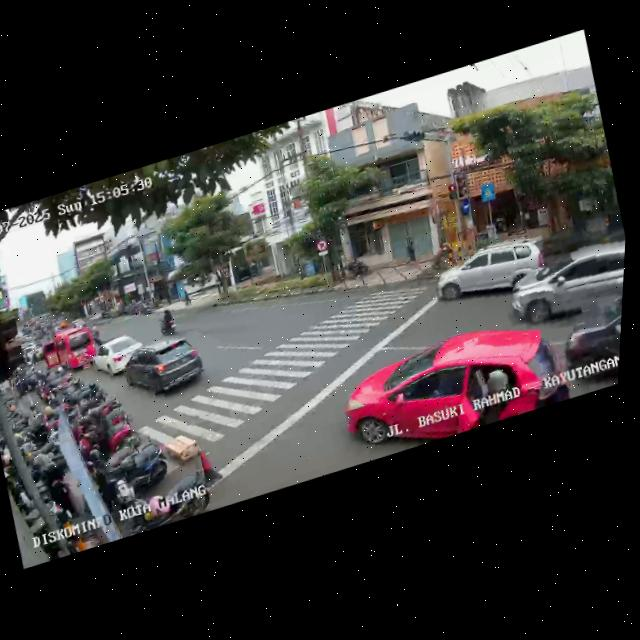car: (333, 304, 572, 466), (505, 233, 626, 341), (428, 226, 551, 313), (117, 325, 211, 411), (38, 322, 99, 381), (88, 329, 149, 382)
motorcycle: (154, 305, 180, 338), (89, 322, 105, 349)
